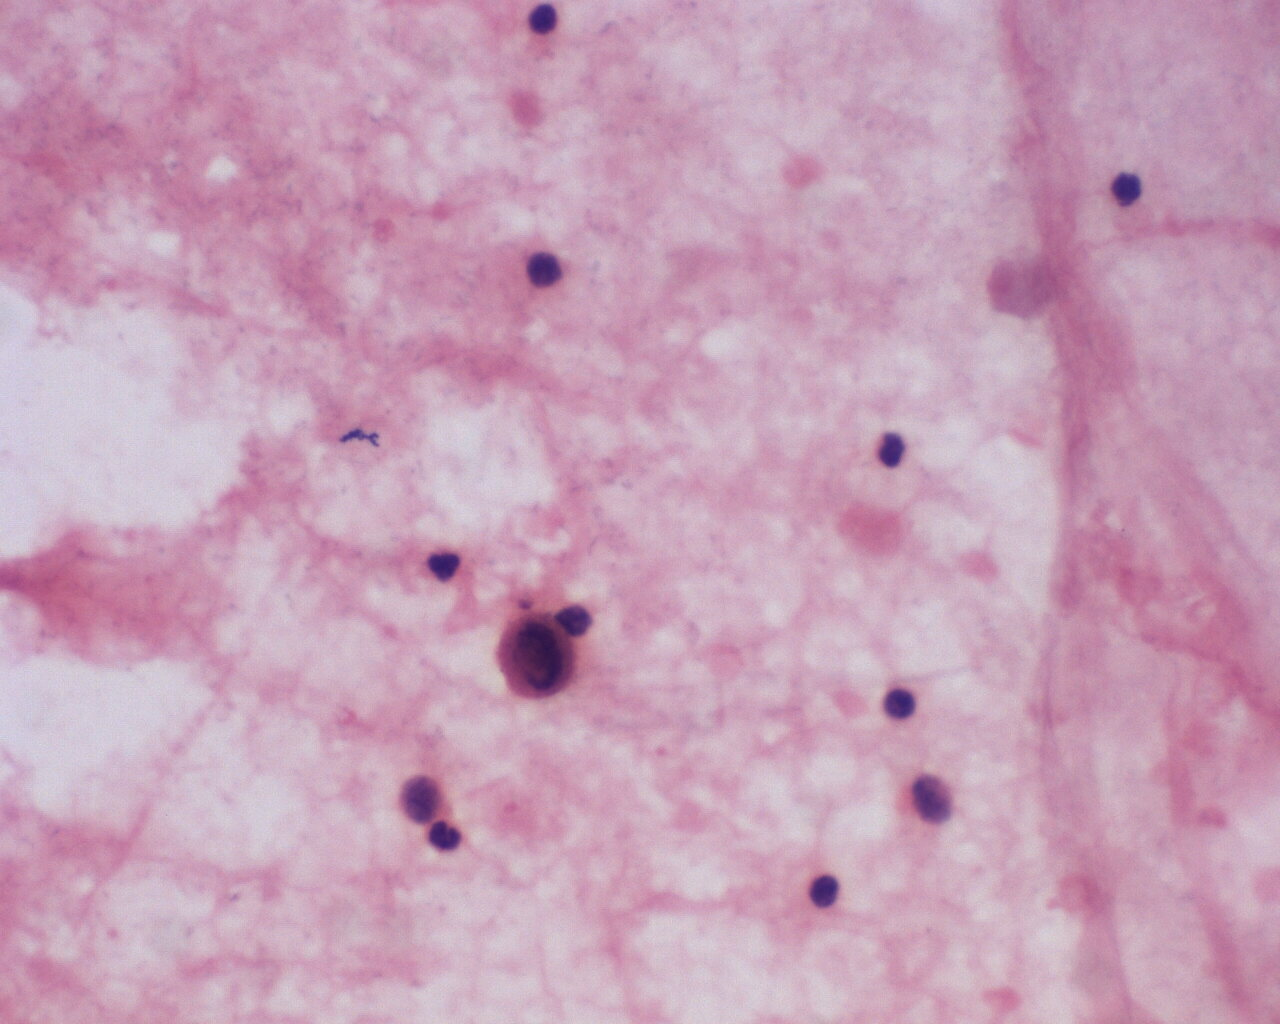ab: (495, 616, 578, 705)
lymph: (806, 869, 843, 908), (879, 686, 920, 722), (527, 3, 562, 37), (1112, 172, 1143, 206)
neutro: (423, 541, 466, 591), (423, 816, 466, 860)
